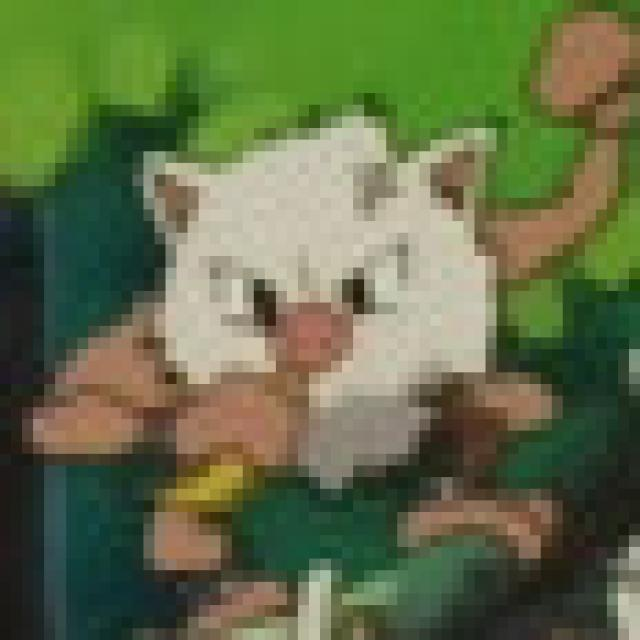Mankey: (74, 90, 593, 572)
